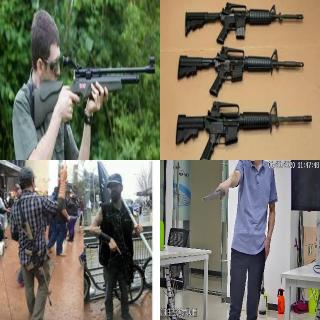gun: (171, 97, 313, 155), (58, 60, 158, 116), (175, 51, 305, 87), (181, 5, 303, 37), (22, 217, 56, 310), (201, 182, 225, 201)
